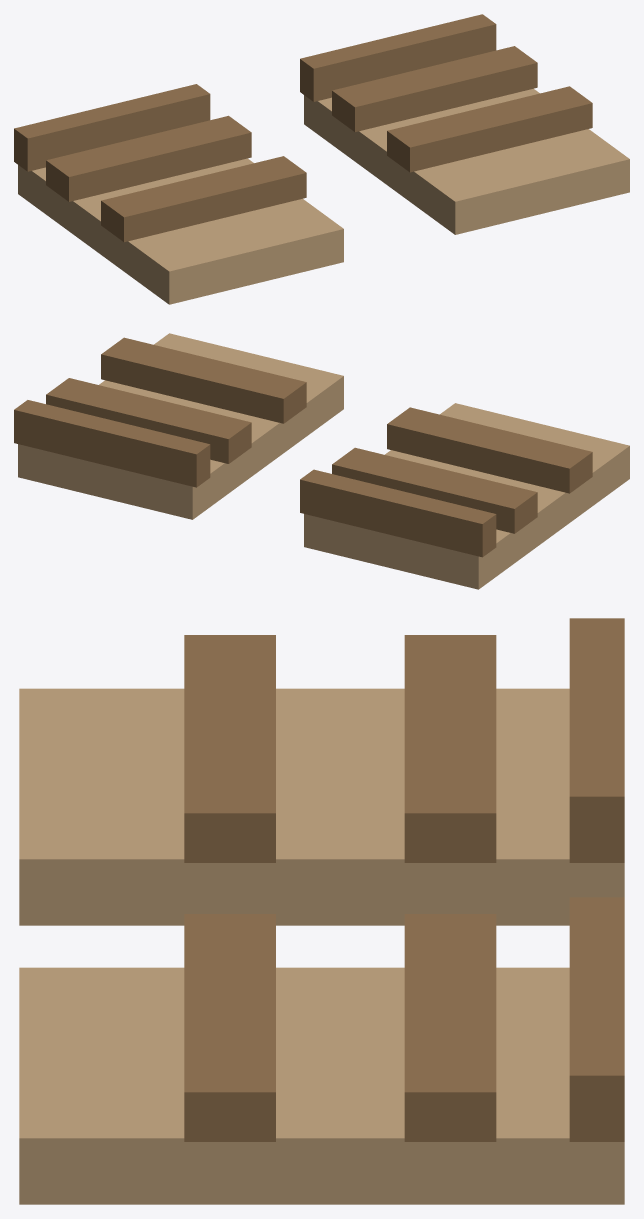
The model's file is av_shoes_sandals.glb.
3 renders of one model, top to bottom at view 1: azimuth 30°, elevation 25°; view 2: azimuth 150°, elevation 25°; view 3: azimuth 270°, elevation 25°, orthographic. The views are drawn at different scales.
Bounding box in the file's own units: 0.59 × 0.08 × 0.33.
